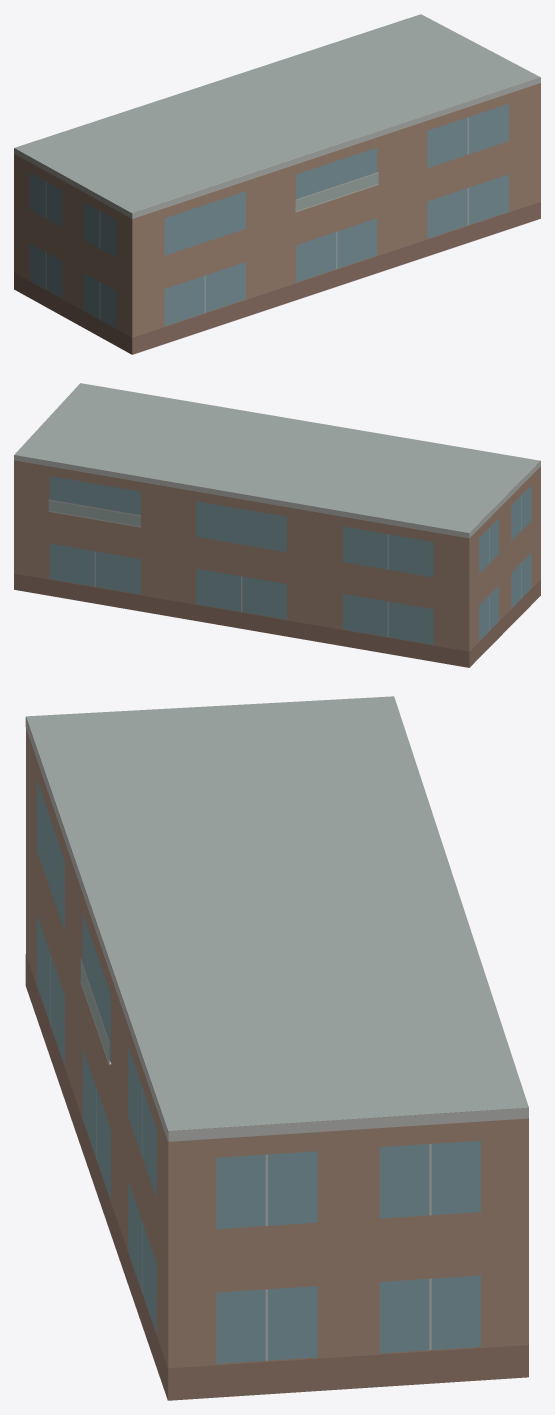
File: survey-upis-32763840.glb
3 views of the same model, one above another, from view 1: azimuth 30°, elevation 25°; view 2: azimuth 150°, elevation 25°; view 3: azimuth 270°, elevation 25° (orthographic). The views are drawn at different scales.
Parts seen in each view (by area): view 1: survey-upis-32763840.tmp; view 2: survey-upis-32763840.tmp; view 3: survey-upis-32763840.tmp.
Part boxes in pixels (x1,y1,x2,y2): survey-upis-32763840.tmp: (14, 14, 540, 354); survey-upis-32763840.tmp: (14, 383, 540, 667); survey-upis-32763840.tmp: (25, 696, 528, 1400).
Bounding box in the file's own units: 21.11 × 6.1 × 10.33.
